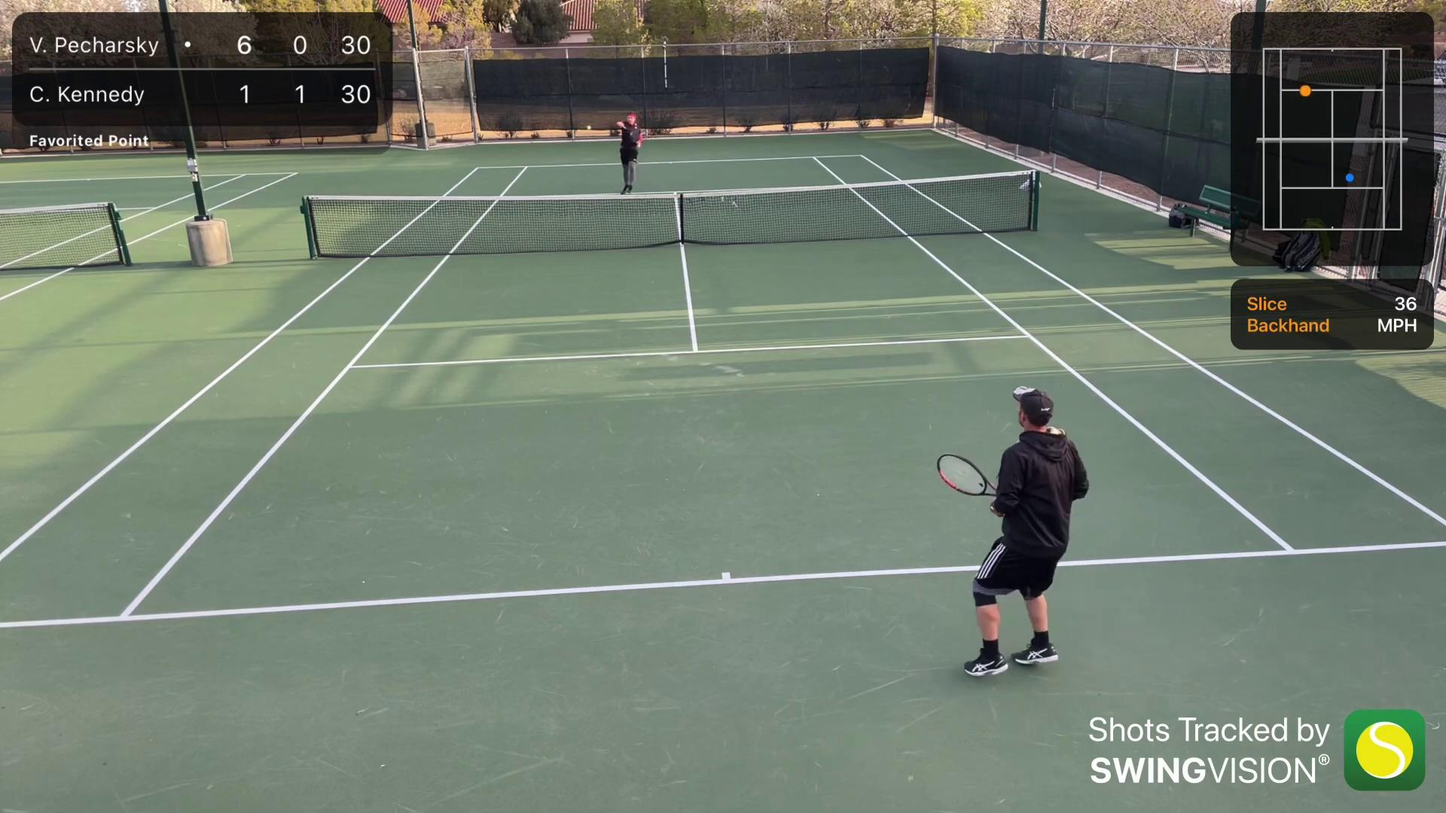ball: (586, 126, 593, 131)
